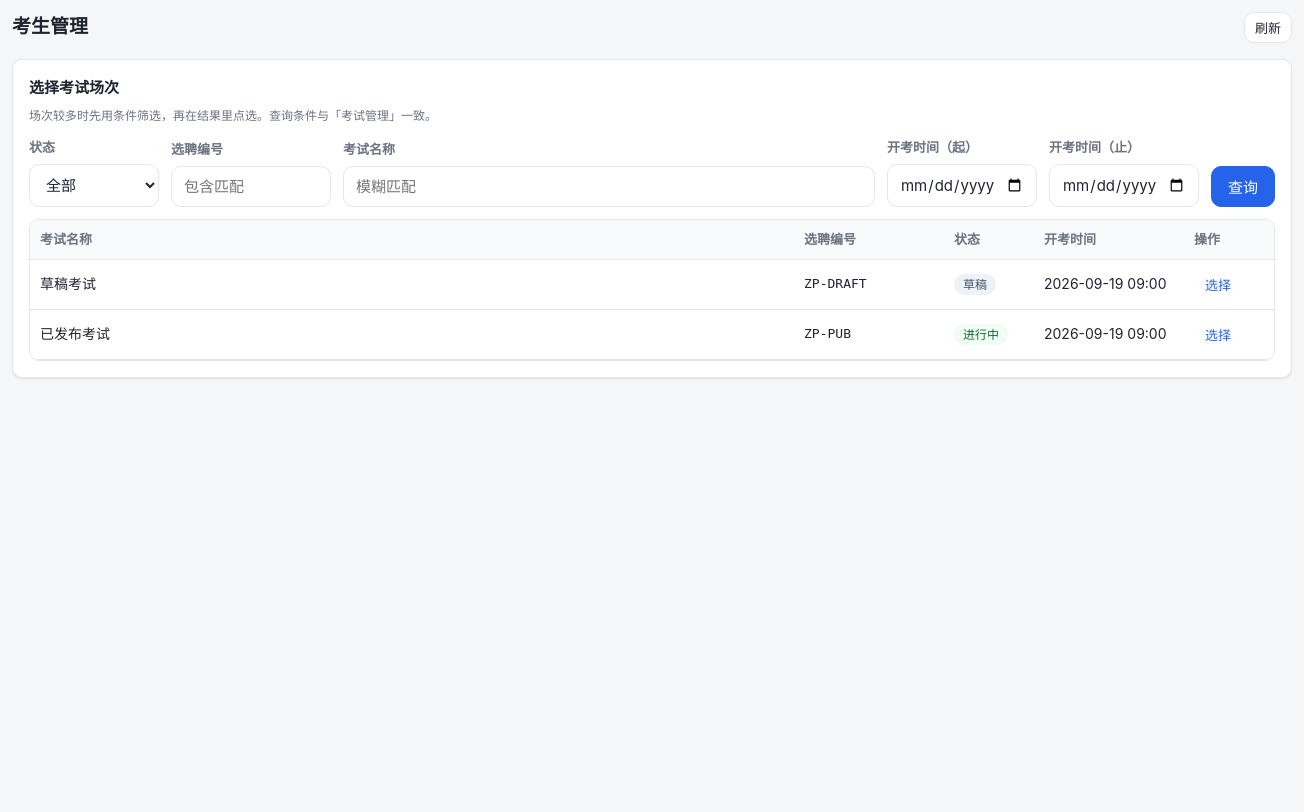
Test: 场次查询与选择（CH-009） › 点选场次后收起选择器、记住场次并加载名单
Click the row with class "exam-row" that starts with "草稿考试": click(652, 284) [30,259,1274,309]
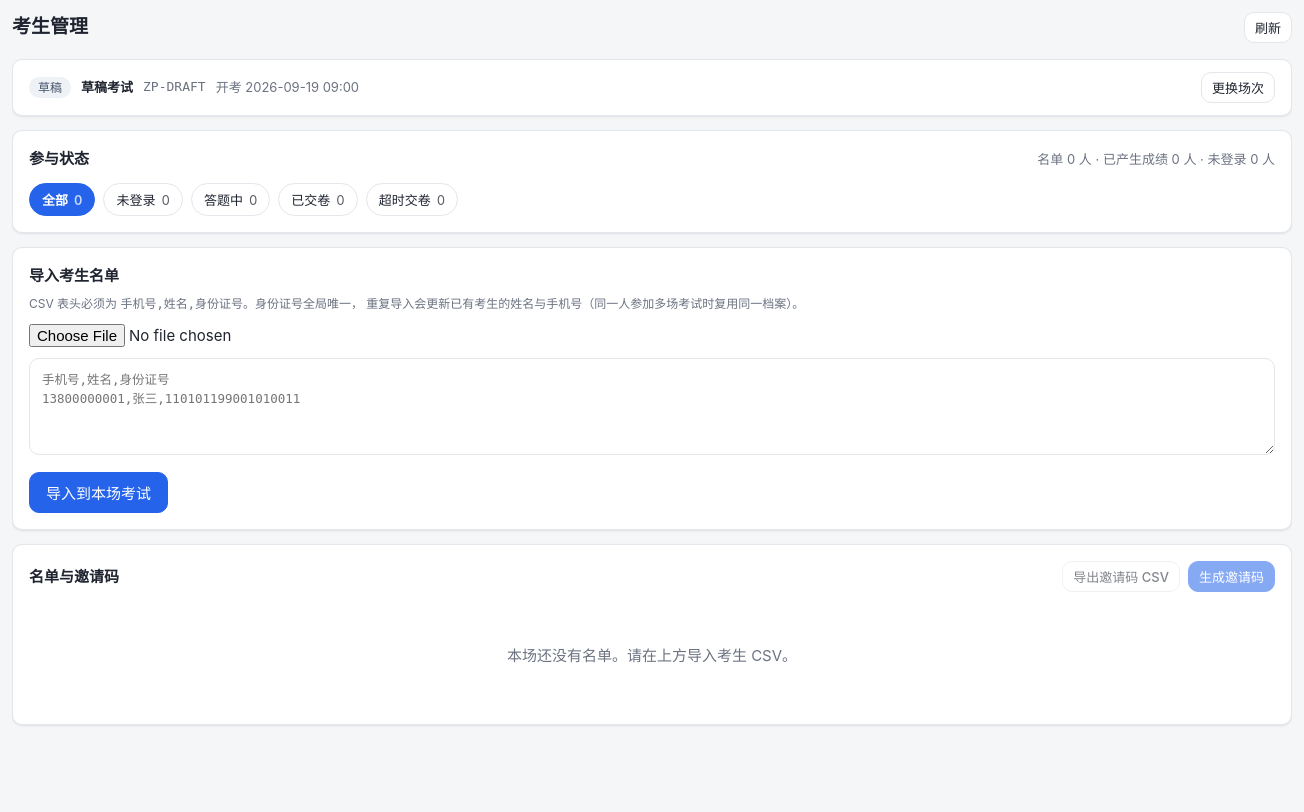
Now the text "更换场次" is shown, box [1201,72,1275,103]
